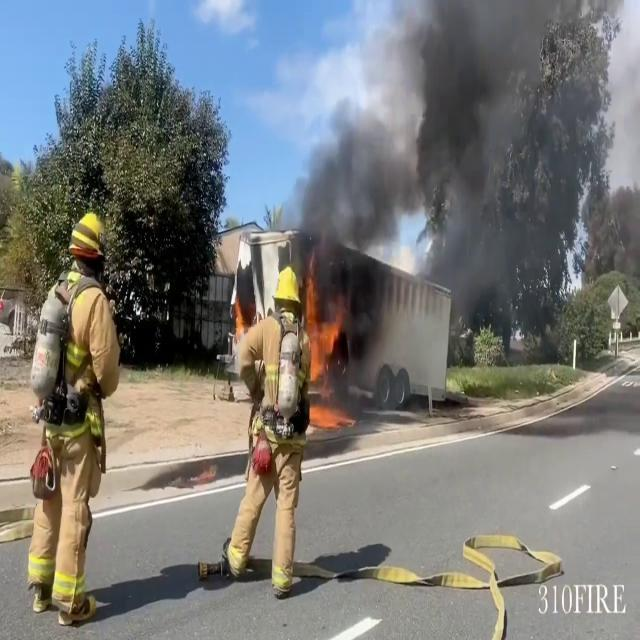Fire: (302, 278, 344, 393)
Smoke: (295, 0, 640, 316)
